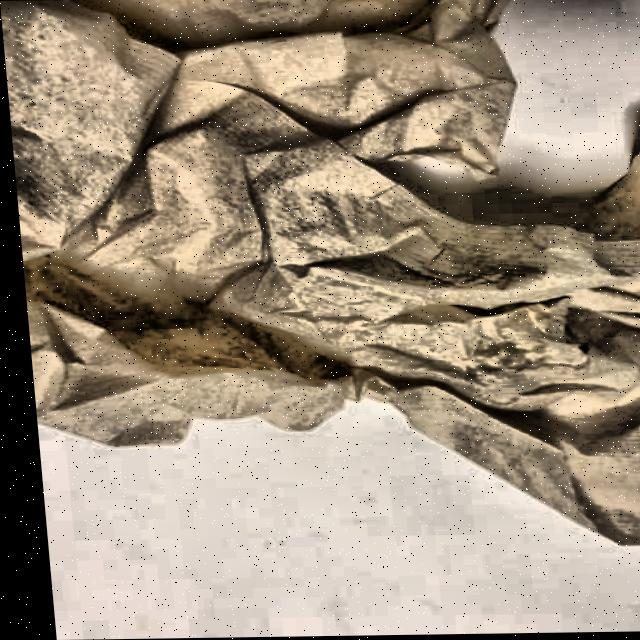paper: (1, 0, 640, 556)
